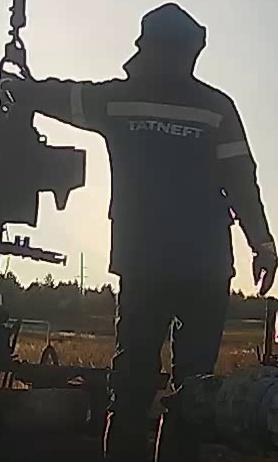gloves: (251, 229, 278, 299)
vest: (66, 73, 247, 293)
